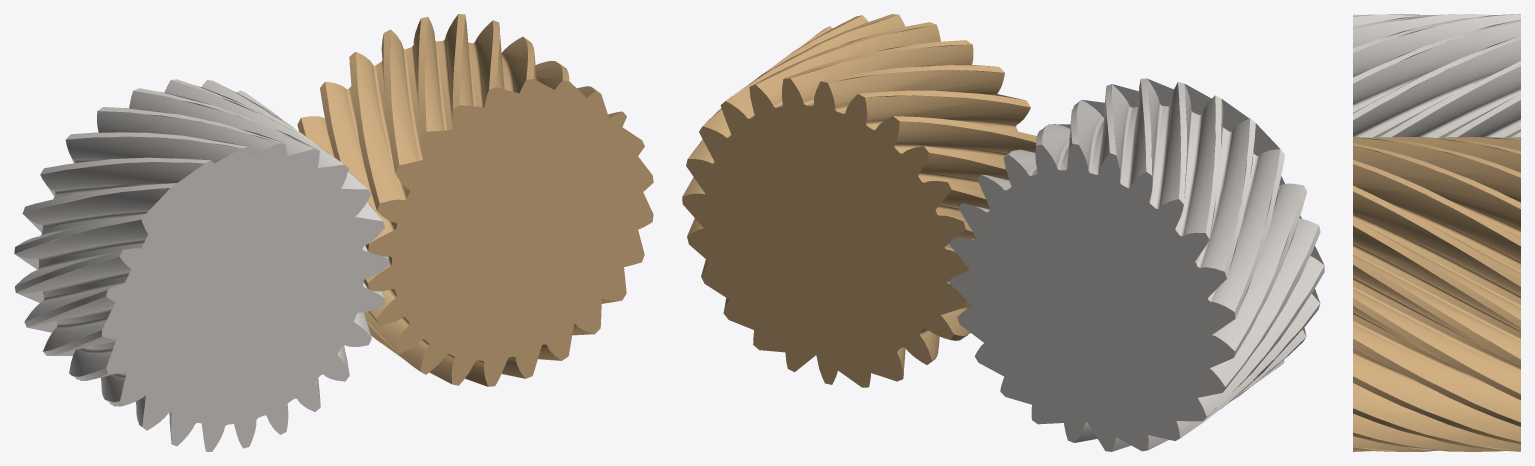
Rendered from helical gears.fbx.
The picture shows the model from 3 angles, left to right: view 1: azimuth 30°, elevation 25°; view 2: azimuth 150°, elevation 25°; view 3: azimuth 270°, elevation 25°; orthographic projection. The views are drawn at different scales.
Parts seen in each view (by area): view 1: helical gear LH, helical gear RH; view 2: helical gear LH, helical gear RH; view 3: helical gear RH, helical gear LH.
Boxes of the visible parts, x1,y1,x2,y2 form: helical gear LH: (14, 79, 389, 451); helical gear RH: (297, 14, 653, 386); helical gear LH: (949, 78, 1324, 451); helical gear RH: (682, 14, 1036, 387); helical gear RH: (1353, 137, 1520, 451); helical gear LH: (1353, 14, 1520, 138).
Size of the model in its own units: 18.33 by 9.53 by 5.08.
